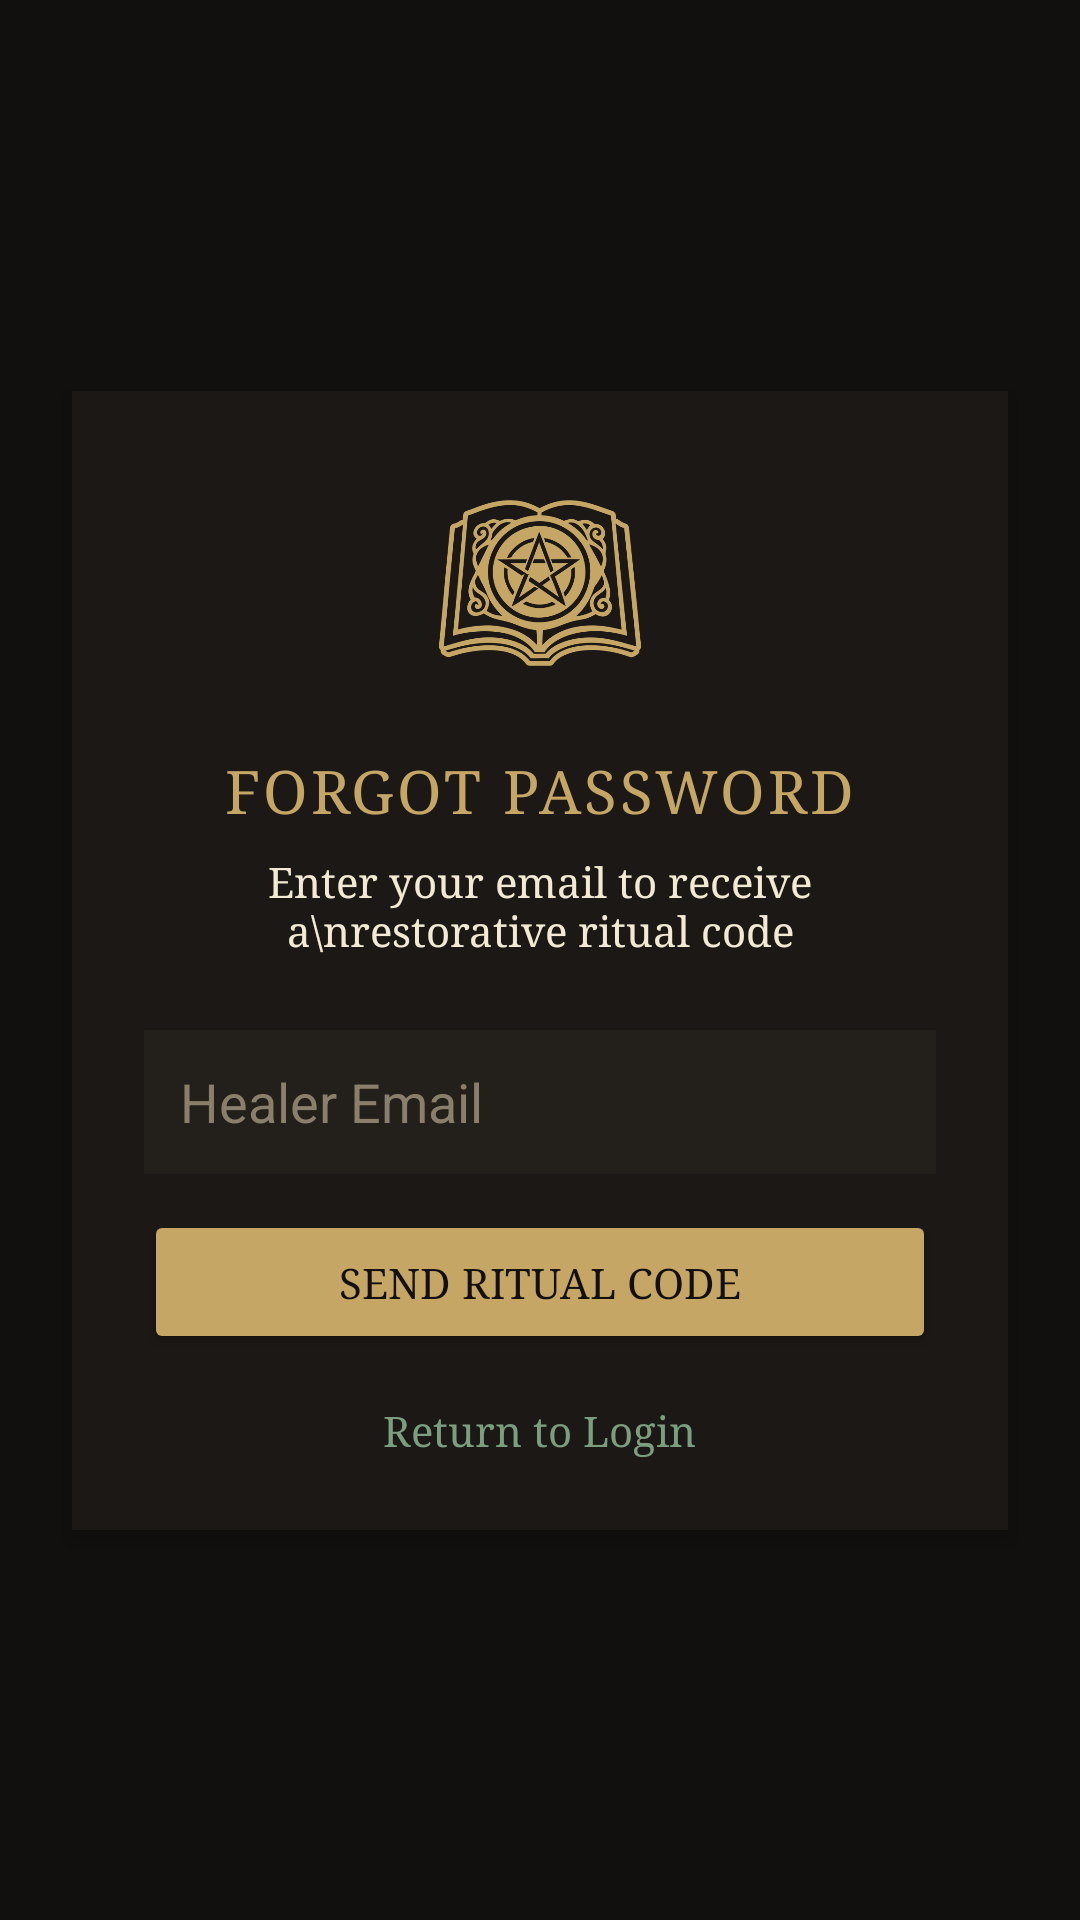

Icon click points for this 1080x1920 phone screenshot, format (x,y):
grimoire: (540,583)
